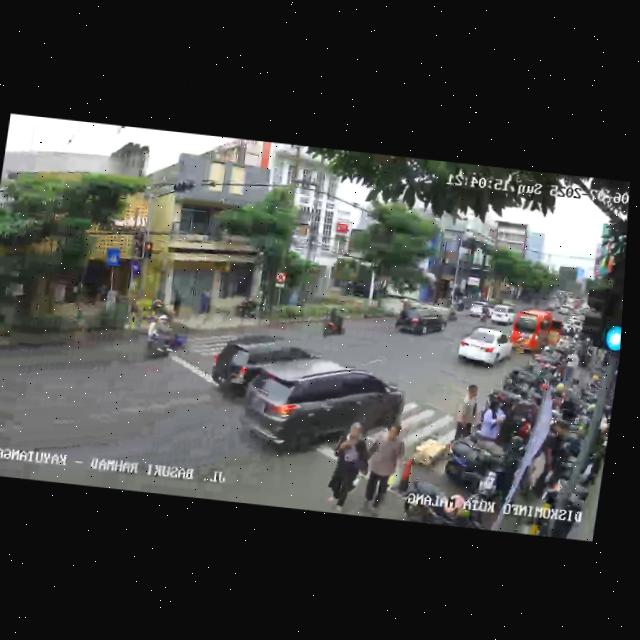car: (234, 354, 410, 467), (206, 329, 323, 408), (508, 307, 568, 359), (454, 324, 515, 371), (393, 299, 451, 341), (486, 302, 515, 325)
motorcycle: (142, 310, 190, 363), (319, 303, 349, 341), (477, 303, 492, 324)
person: (321, 419, 375, 515), (360, 418, 409, 519), (477, 389, 507, 447), (454, 382, 482, 439)
